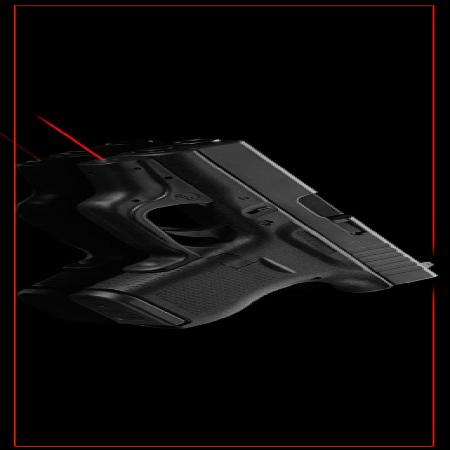Pistol: (64, 136, 428, 330)
